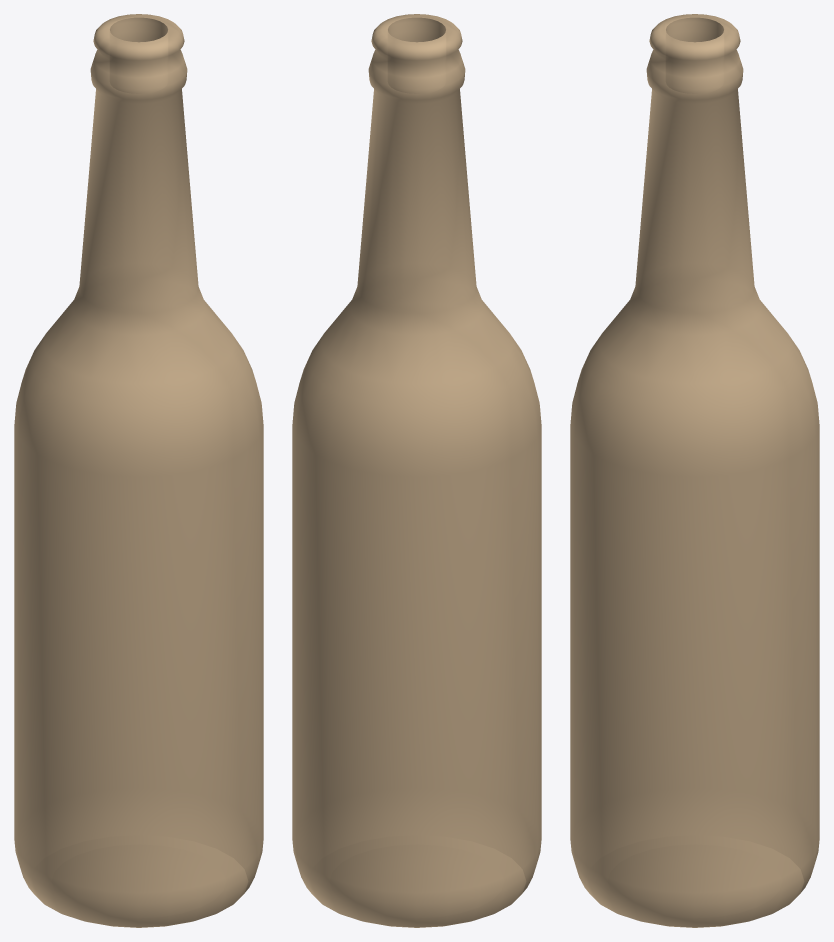
The picture shows the model from 3 angles, left to right: view 1: azimuth 30°, elevation 25°; view 2: azimuth 150°, elevation 25°; view 3: azimuth 270°, elevation 25°; orthographic projection.
Parts seen in each view (by area): view 1: mesh1_mesh1-geometry; view 2: mesh1_mesh1-geometry; view 3: mesh1_mesh1-geometry.
Boxes of the visible parts, left/top/right/bottom form: mesh1_mesh1-geometry: left=14, top=14, right=263, bottom=927; mesh1_mesh1-geometry: left=292, top=14, right=541, bottom=927; mesh1_mesh1-geometry: left=570, top=14, right=819, bottom=927.
Size of the model in its own units: 0.2473 by 0.9368 by 0.2473.
